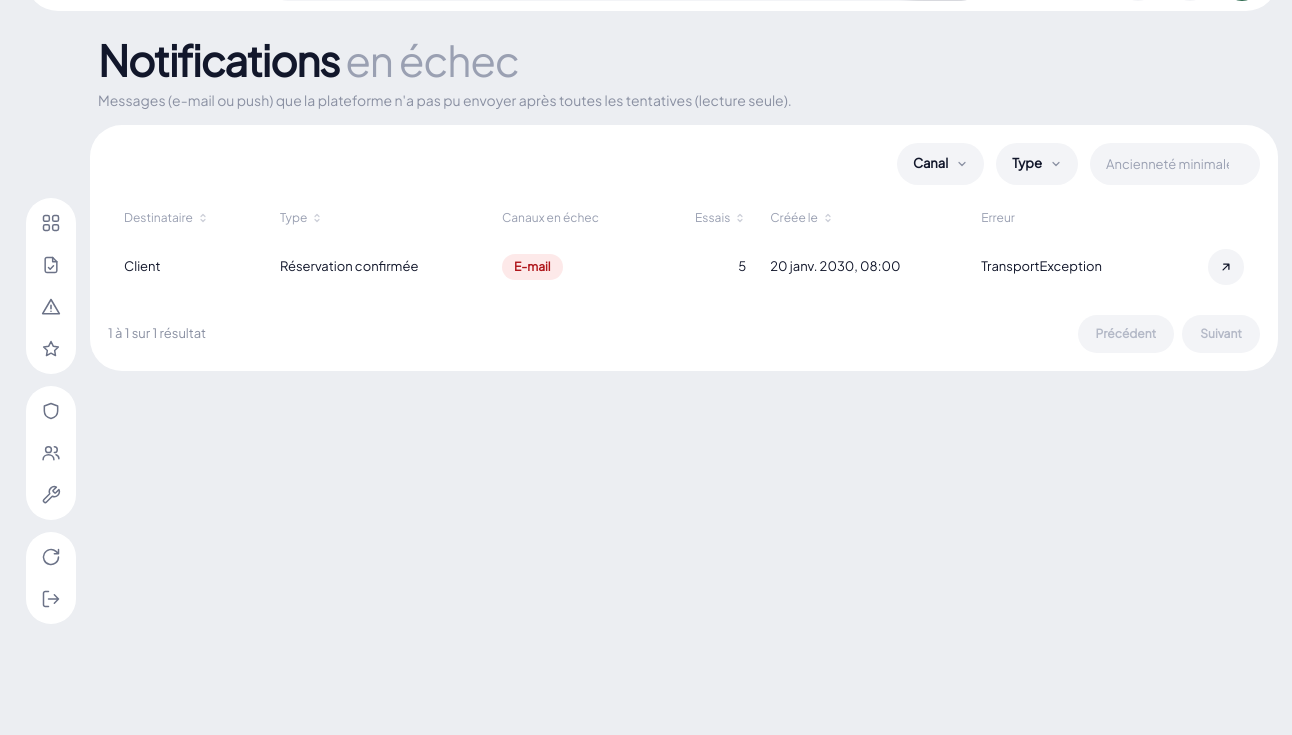
Scenario: notifications en échec › liste les notifications sans contenu ni coordonnées, avec le filtre de canal dans l’adresse
Expected: the text "E-mail" is shown, [502, 254, 563, 280]
Expected: the text "TransportException" is shown, [969, 237, 1167, 297]
Click the button with aria-label "Filtrer par canal".
click(941, 164)  # box [897, 143, 984, 185]
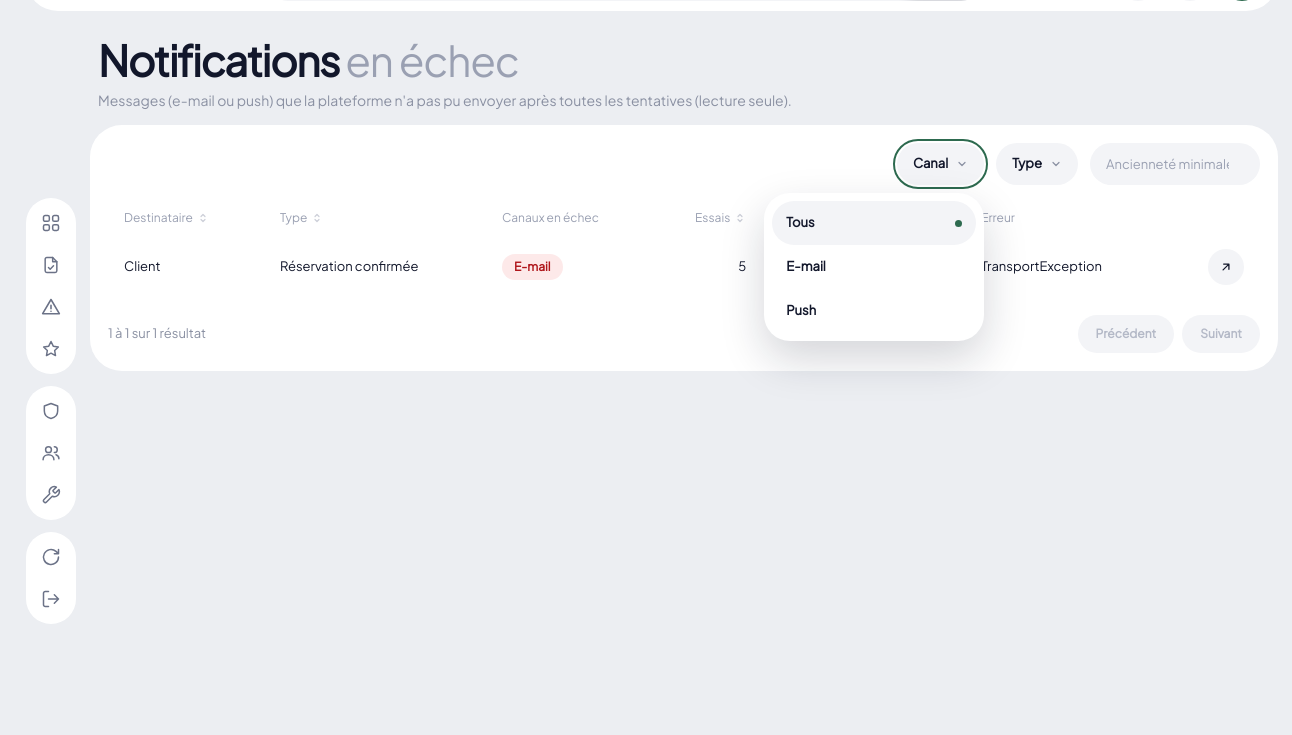
Click the menu item "Push".
click(874, 311)  # box [772, 289, 976, 333]
(page scrolled)
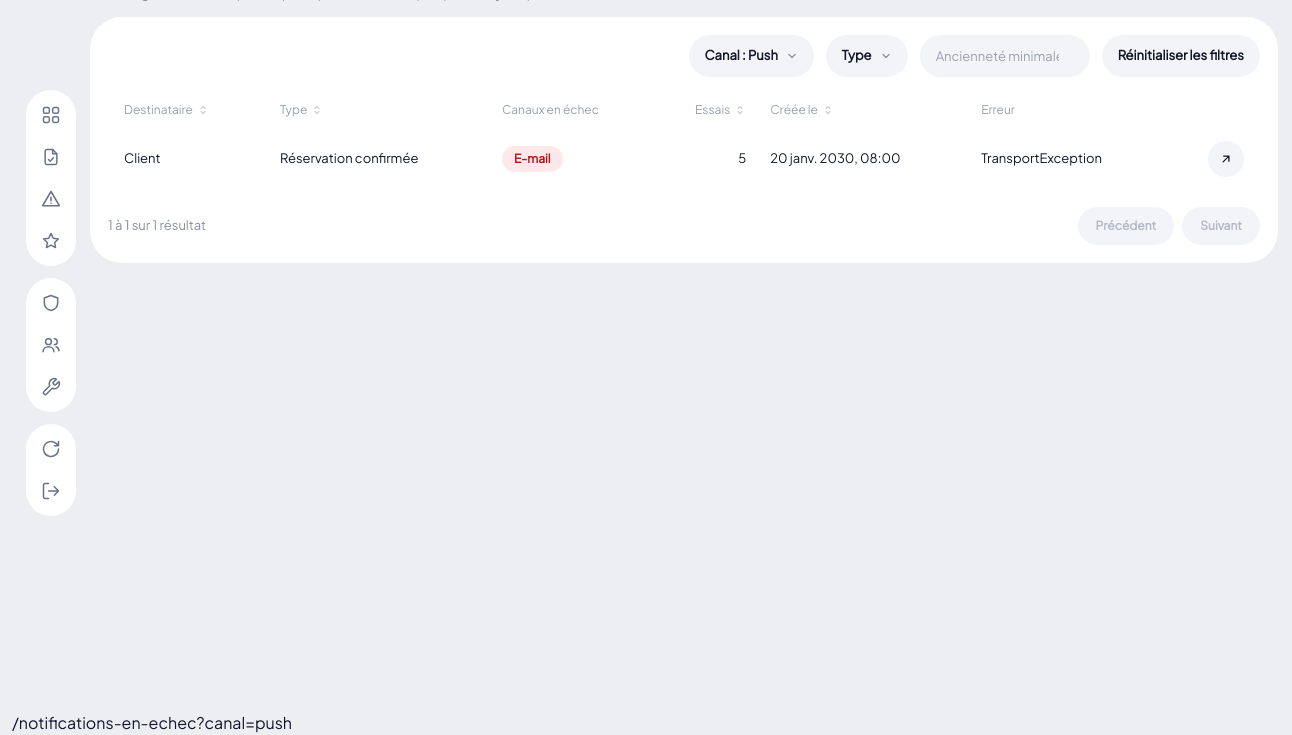
Result: the text with test id "lieu" reads "/notifications-en-echec?canal=push" at [12, 712, 292, 733]
